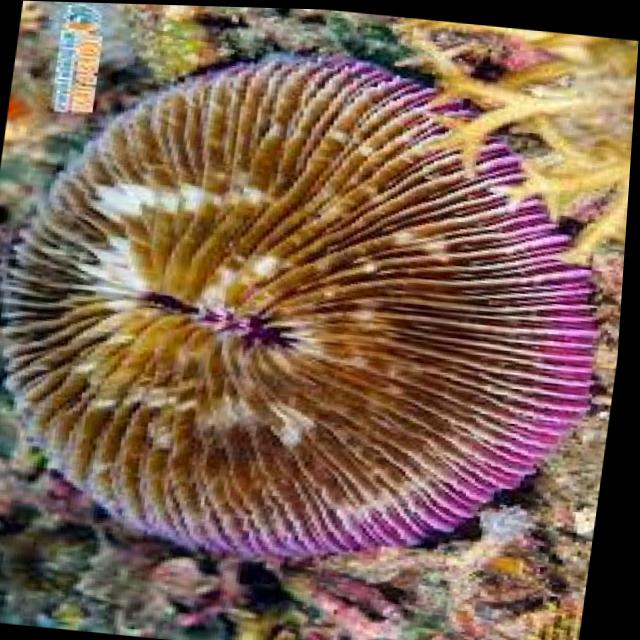Healthy Coral: (0, 22, 634, 591)
